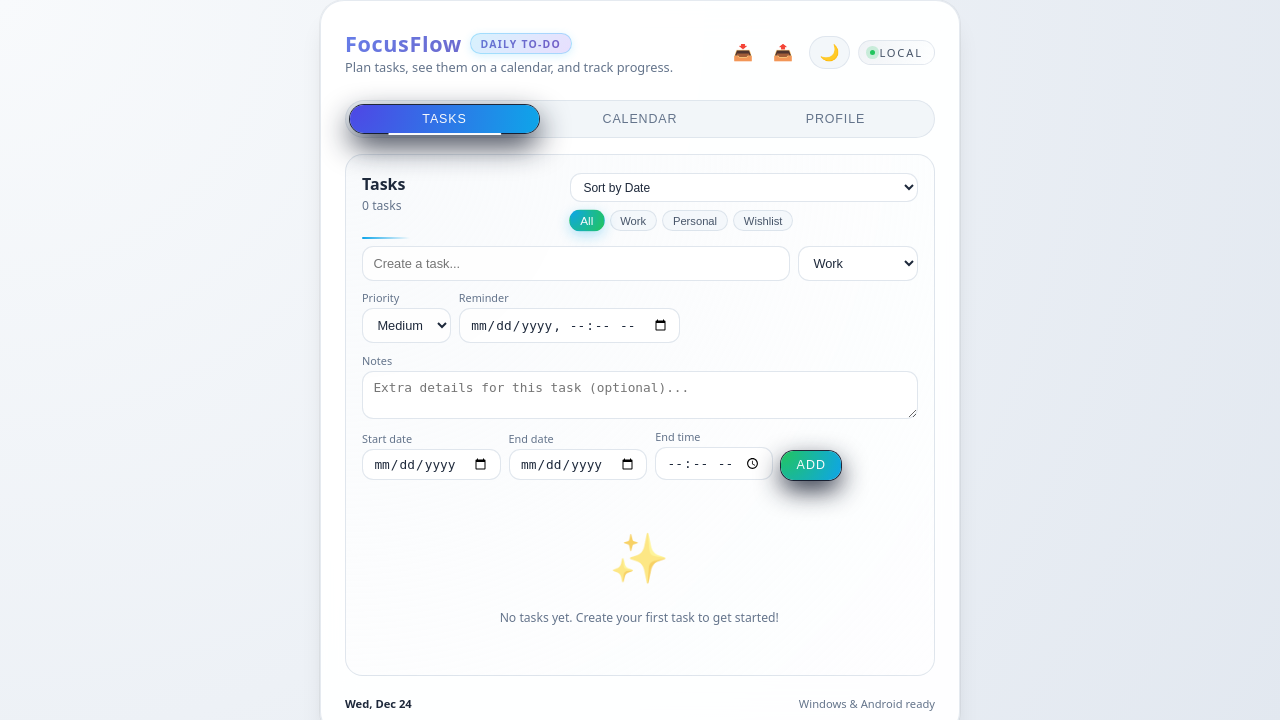
Test: App › edits a task
The image size is (1280, 720).
Type "Original Task" into the field with placeholder "Create a task..." at coordinates (576, 263), box left=362, top=246, right=790, bottom=281
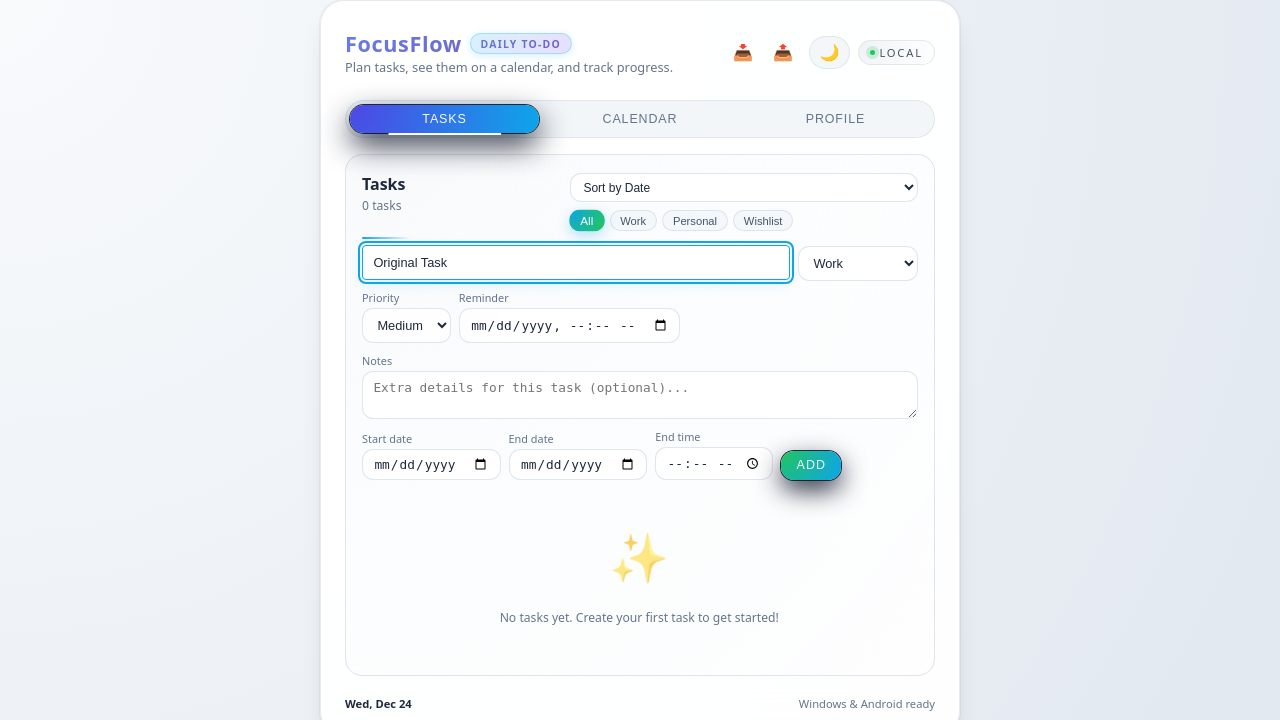
Click the button "Add" at coordinates (811, 465), box left=781, top=451, right=841, bottom=480
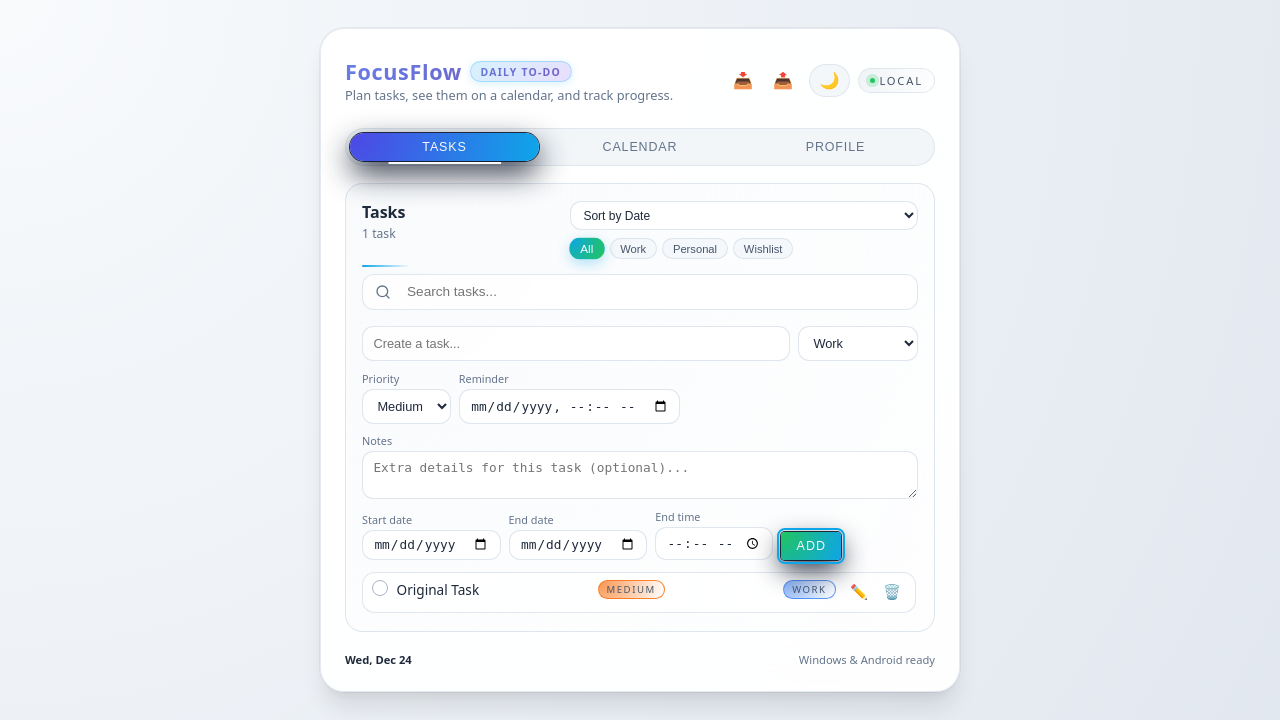
Now the text "Original Task" is shown, box left=397, top=580, right=479, bottom=599
Edit the task
Click the button named "edit task: original task" at coordinates (859, 593), box left=844, top=580, right=874, bottom=605
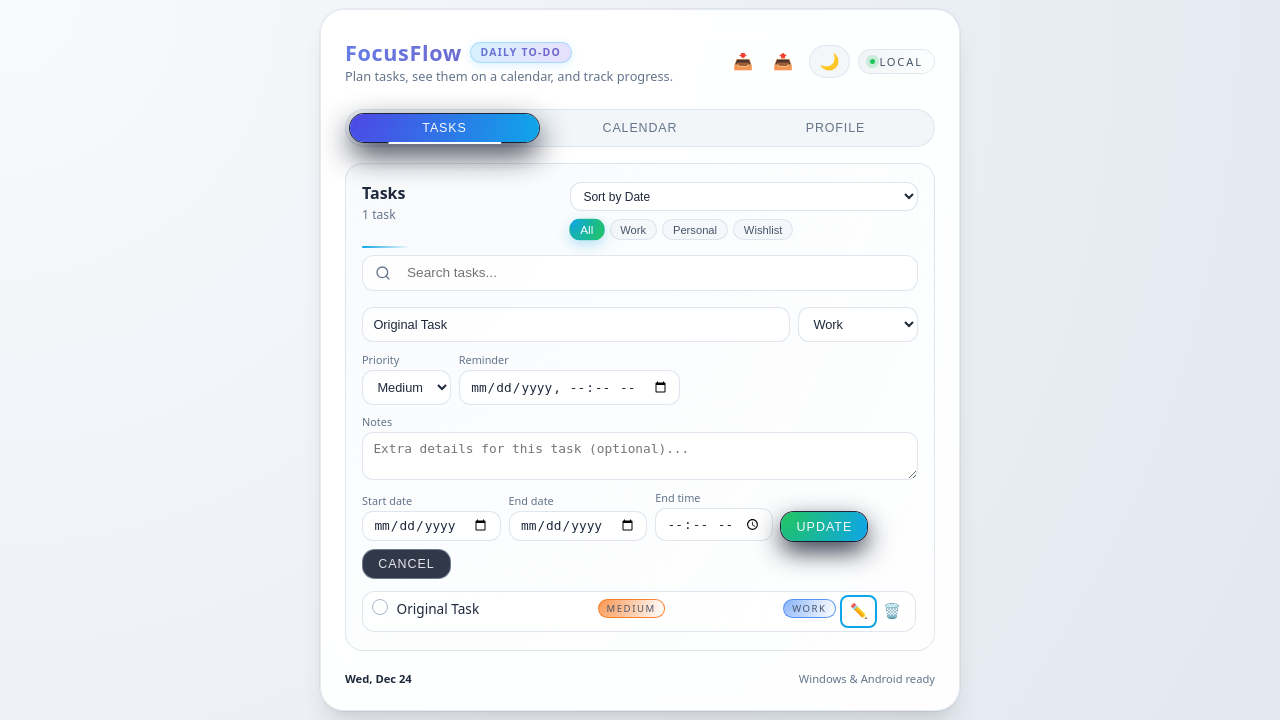
Clear the field showing "Original Task" at coordinates (576, 324), box left=362, top=307, right=790, bottom=342
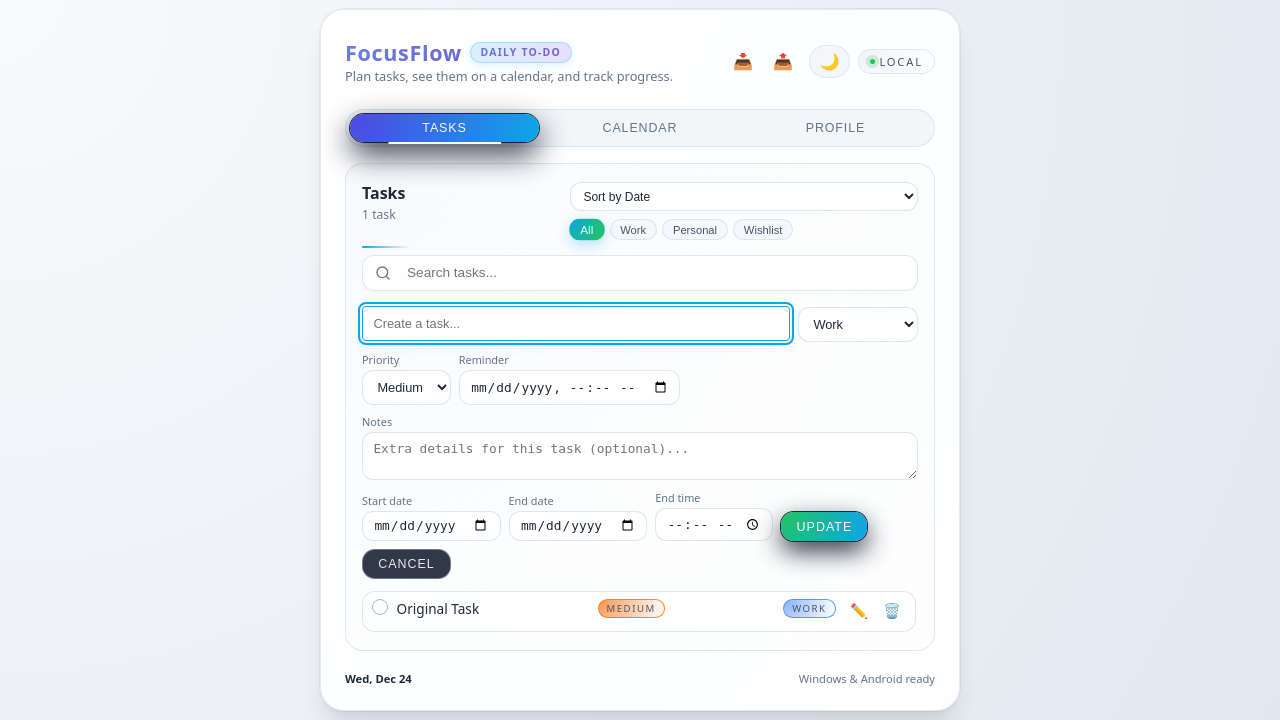
Type "Updated Task" into the field showing "Original Task" at coordinates (576, 323), box left=362, top=306, right=790, bottom=341
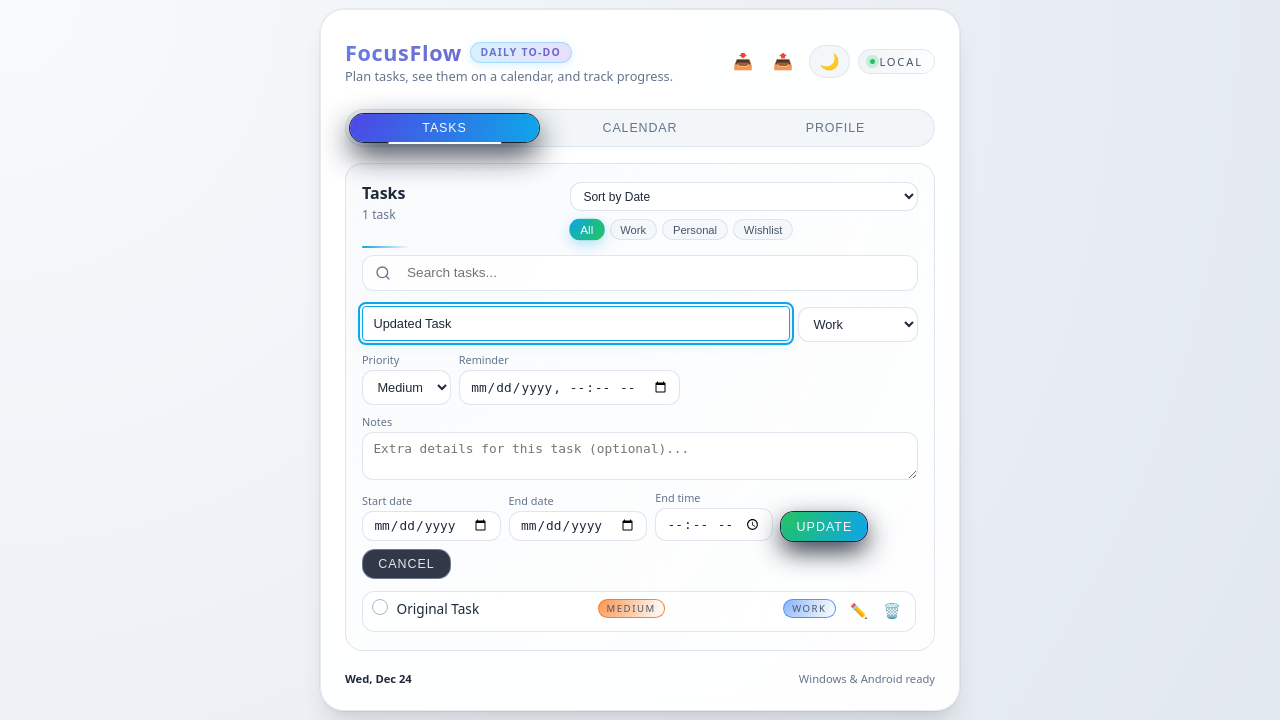
Click the button "Update" at coordinates (824, 526), box left=781, top=512, right=867, bottom=541
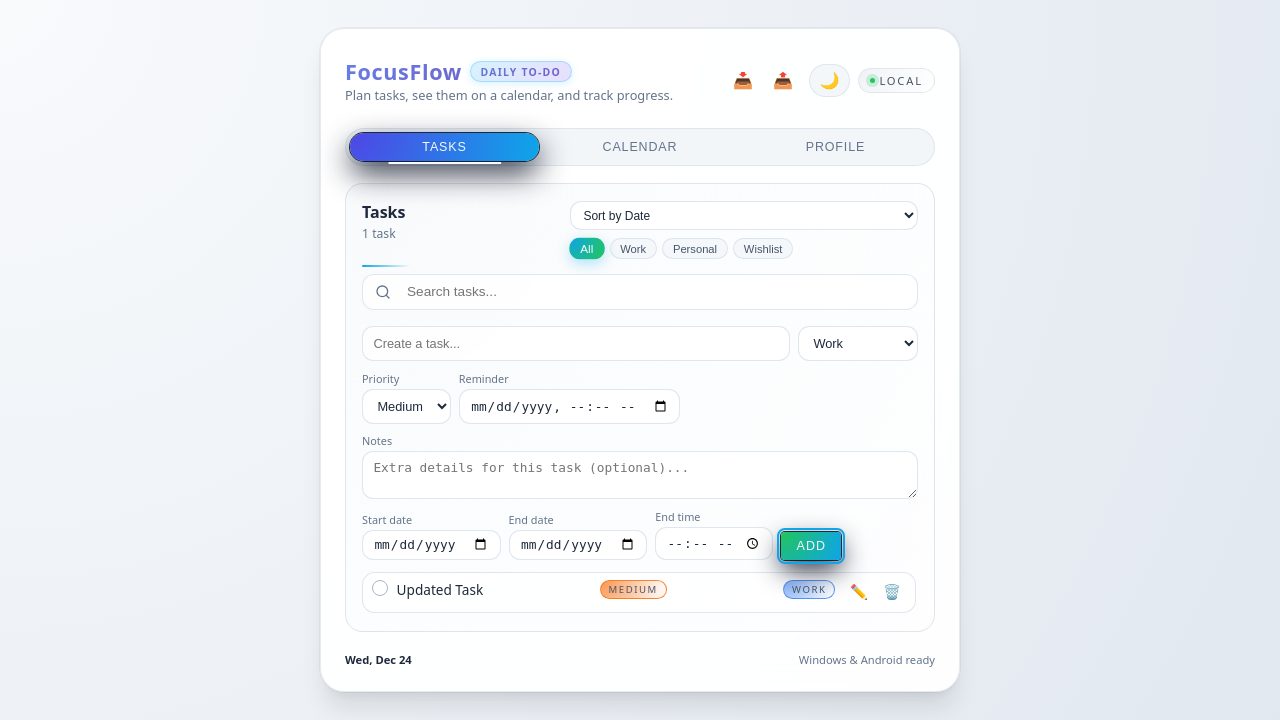
Now the text "Updated Task" is shown, box left=397, top=580, right=483, bottom=599
Now the text "Original Task" is gone
